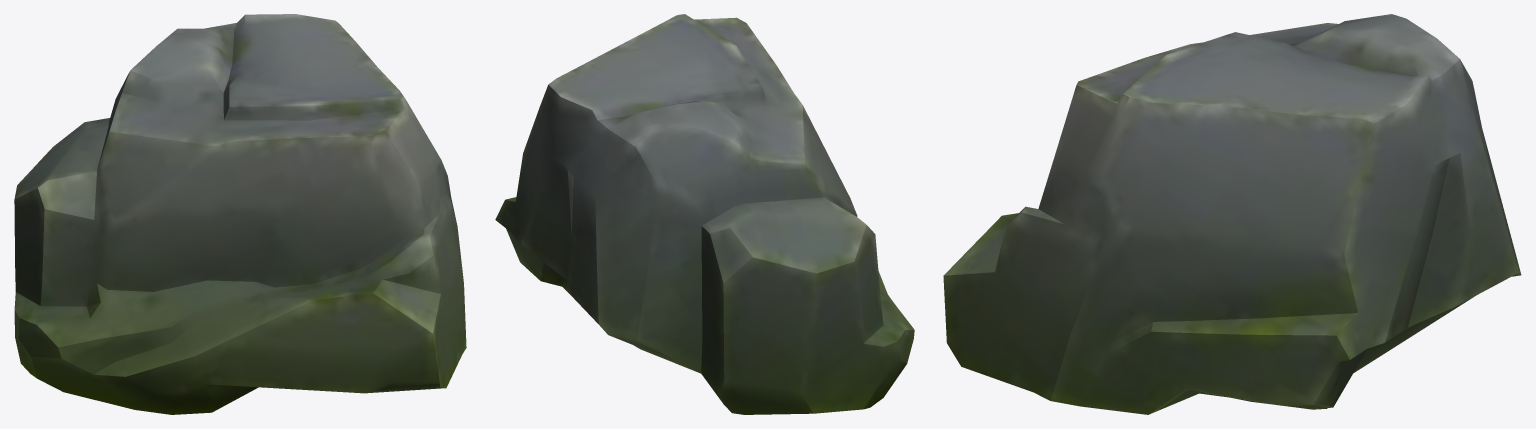
File: rock_medium_3.glb
The picture shows the model from 3 angles, left to right: view 1: azimuth 30°, elevation 25°; view 2: azimuth 150°, elevation 25°; view 3: azimuth 270°, elevation 25°; orthographic projection. The views are drawn at different scales.
Visible parts, largest first — view 1: Rock_Medium_3; view 2: Rock_Medium_3; view 3: Rock_Medium_3.
Boxes of the visible parts, box(x1,y1,x2,y2) form: Rock_Medium_3: box(14, 14, 466, 414); Rock_Medium_3: box(495, 14, 914, 414); Rock_Medium_3: box(943, 14, 1521, 414).
Bounding box in the file's own units: 3.42 × 2.32 × 3.48.
Materials: 1 (1 with a texture image).
